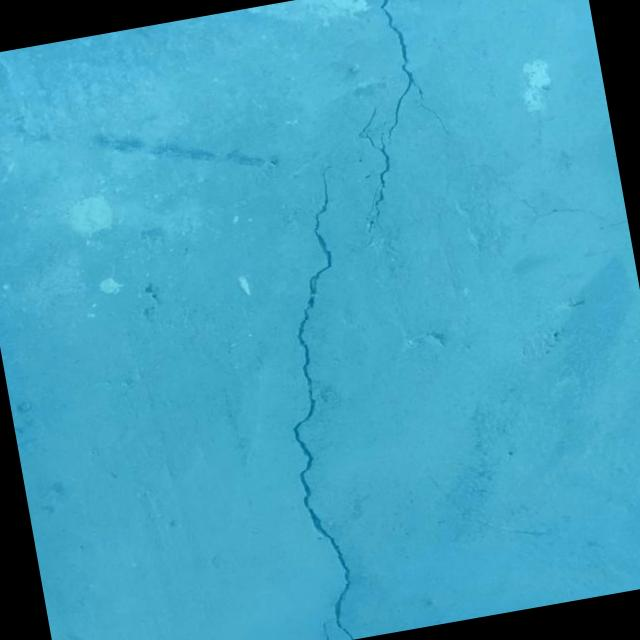crack: (242, 163, 419, 640), (359, 0, 449, 146), (334, 105, 407, 254), (521, 182, 628, 240), (448, 134, 477, 168)
